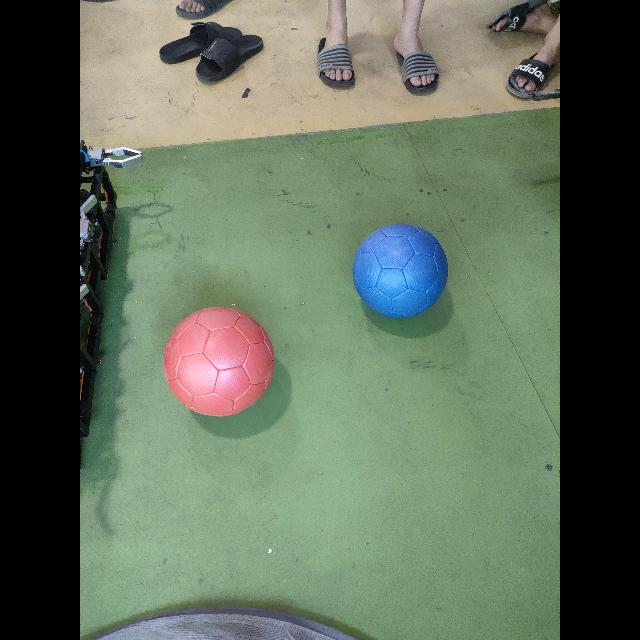B: (352, 224, 449, 321)
R: (163, 307, 276, 420)
